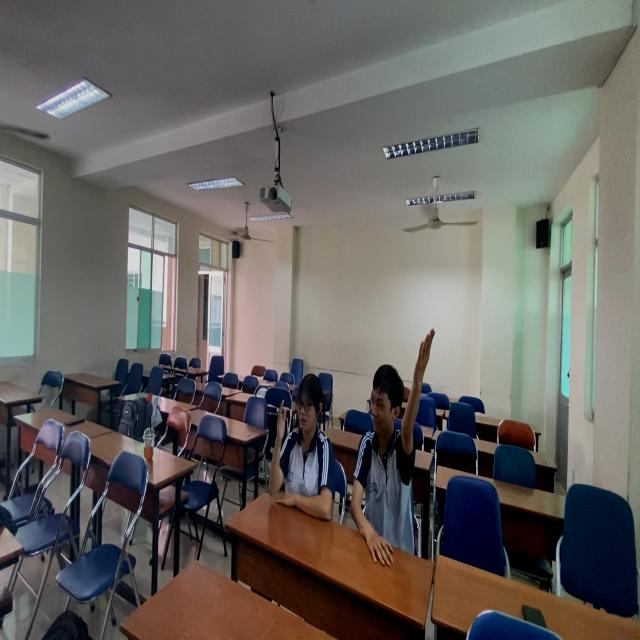raise_hand: (351, 317, 441, 554), (269, 370, 337, 519)
